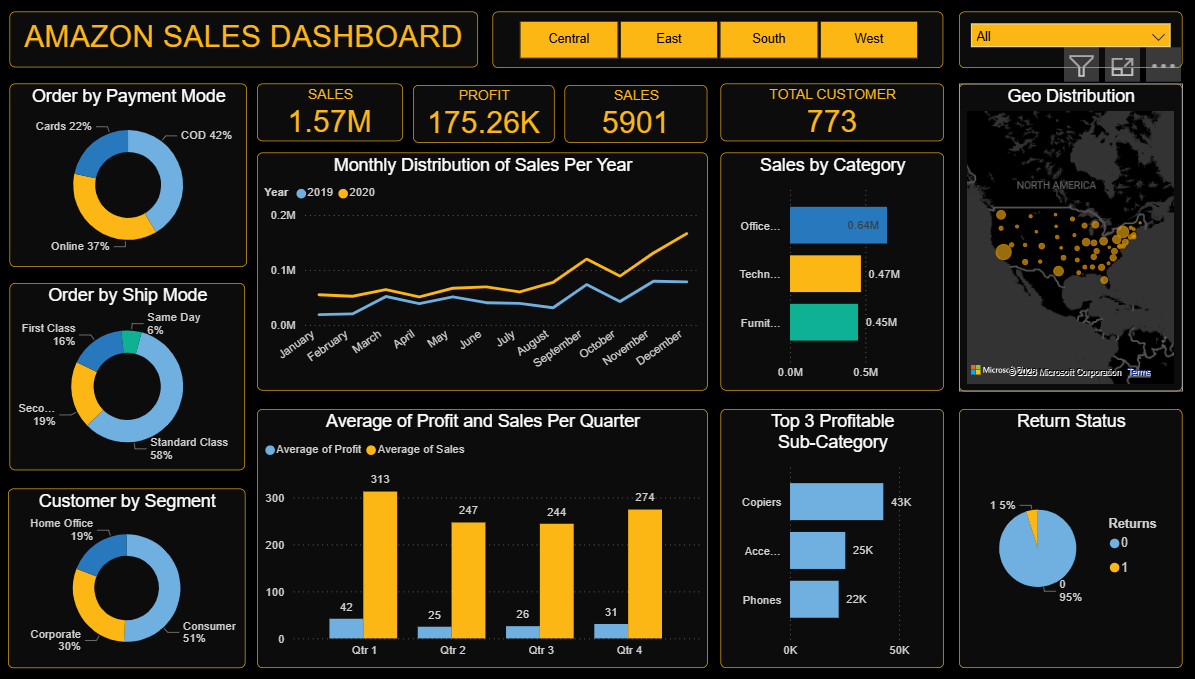

The dashboard page shown, as its layout file describes it:
{"tool":"powerbi","page":{"name":"Page 1","canvas":[1280,720],"ordinal":0},"visuals":[{"type":"textbox","box":[14.2,14.2,492.2,58.7],"z":0},{"type":"donutChart","title":"Order by Payment Mode","fields":{"Category":["Sheet1.Payment Mode"],"Y":["CountNonNull(Sheet1.Order ID)"]},"box":[14.2,89.1,249.1,192.4],"z":1000},{"type":"donutChart","title":"Order by Ship Mode","fields":{"Category":["Sheet1.Ship Mode"],"Y":["CountNonNull(Sheet1.Order ID)"]},"box":[14.2,299.7,247.1,196.5],"z":2000},{"type":"donutChart","title":"Customer by Segment","fields":{"Category":["Sheet1.Segment"],"Y":["CountNonNull(Sheet1.Customer ID)"]},"box":[12.2,514.4,249.1,188.4],"z":3000},{"type":"lineChart","title":"Monthly Distribution of Sales Per Year","fields":{"Category":["Sheet1.Order Date.Variation.Date Hierarchy.Month"],"Series":["Sheet1.Order Date.Variation.Date Hierarchy.Year"],"Y":["Sum(Sheet1.Sales)"]},"box":[273.4,162.5,473.4,250],"z":4000},{"type":"clusteredColumnChart","title":"Average of Profit and Sales Per Quarter","fields":{"Category":["Sheet1.Order Date.Variation.Date Hierarchy.Quarter"],"Y":["Avg(Sheet1.Profit)","Avg(Sheet1.Sales)"]},"box":[273.4,431.2,473.4,271.9],"z":5000},{"type":"map","title":"Geo Distribution","fields":{"Category":["Sheet1.State"],"Size":["Sum(Sheet1.Sales)"]},"box":[1010.9,89.1,234.4,323.4],"z":6000},{"type":"clusteredBarChart","title":"Sales by Category","fields":{"Category":["Sheet1.Category"],"Y":["Sum(Sheet1.Sales)"]},"box":[760.9,162.5,234.4,250],"z":7000},{"type":"clusteredBarChart","title":"Top 3 Profitable Sub-Category","fields":{"Category":["Sheet1.Sub-Category"],"Y":["Sum(Sheet1.Profit)"]},"box":[760.9,431.2,234.4,271.9],"z":8000},{"type":"pieChart","title":"Return Status","fields":{"Category":["Sheet1.Returns"],"Y":["CountNonNull(Sheet1.Order ID)"]},"box":[1010.9,431.2,234.4,271.9],"z":9000},{"type":"card","title":"SALES","fields":{"Values":["Sum(Sheet1.Sales)"]},"box":[273.4,89.1,153.1,60.9],"z":10000},{"type":"card","title":"PROFIT","fields":{"Values":["Sum(Sheet1.Profit)"]},"box":[437.5,90.6,148.4,60.9],"z":11000},{"type":"card","title":"TOTAL CUSTOMER","fields":{"Values":["Count(Sheet1.Customer ID)"]},"box":[760.9,89.1,234.4,60.9],"z":12000},{"type":"card","title":"SALES","fields":{"Values":["CountNonNull(Sheet1.Order ID)"]},"box":[596.9,90.6,150,60.9],"z":13000},{"type":"slicer","fields":{"Values":["Sheet1.Region"]},"box":[521.9,14.1,473.4,59.4],"z":14000},{"type":"slicer","fields":{"Values":["Sheet1.State"]},"box":[1010.9,14.1,234.4,59.4],"z":15000}]}

Visuals, with their boxes in screenshot pixels (x1, y1, x2, y2), scaled from the page's 1280x720 canvas onto the 1195x679 screenshot:
textbox: region(13, 13, 473, 69)
"Order by Payment Mode" donutChart: region(13, 84, 246, 265)
"Order by Ship Mode" donutChart: region(13, 283, 244, 468)
"Customer by Segment" donutChart: region(11, 485, 244, 663)
"Monthly Distribution of Sales Per Year" lineChart: region(255, 153, 697, 389)
"Average of Profit and Sales Per Quarter" clusteredColumnChart: region(255, 407, 697, 663)
"Geo Distribution" map: region(944, 84, 1163, 389)
"Sales by Category" clusteredBarChart: region(710, 153, 929, 389)
"Top 3 Profitable Sub-Category" clusteredBarChart: region(710, 407, 929, 663)
"Return Status" pieChart: region(944, 407, 1163, 663)
"SALES" card: region(255, 84, 398, 141)
"PROFIT" card: region(408, 85, 547, 143)
"TOTAL CUSTOMER" card: region(710, 84, 929, 141)
"SALES" card: region(557, 85, 697, 143)
slicer - Sheet1.Region: region(487, 13, 929, 69)
slicer - Sheet1.State: region(944, 13, 1163, 69)
